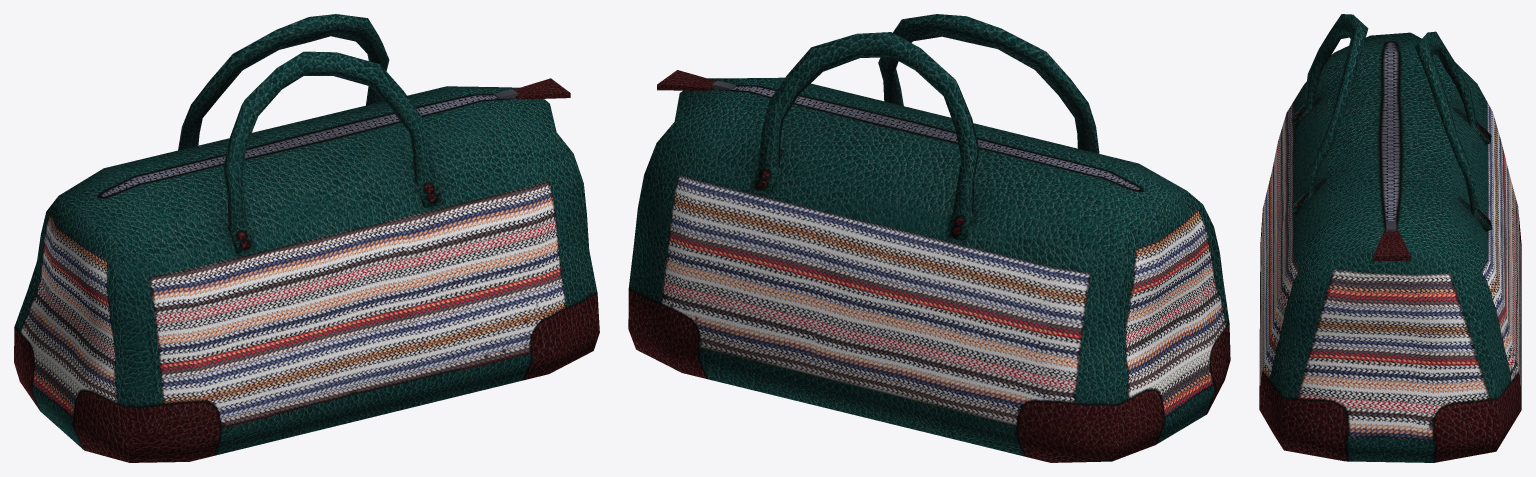
The model's file is handbag_1.fbx.
3 views of the same model, side by side, from view 1: azimuth 30°, elevation 25°; view 2: azimuth 150°, elevation 25°; view 3: azimuth 270°, elevation 25° (orthographic). The views are drawn at different scales.
Visible parts, largest first — view 1: handbag_1; view 2: handbag_1; view 3: handbag_1.
Boxes of the visible parts, x1=… form: handbag_1: x1=14, y1=14, x2=599, y2=462; handbag_1: x1=628, y1=14, x2=1230, y2=462; handbag_1: x1=1259, y1=14, x2=1521, y2=462.
Size of the model in its own units: 0.9183 by 0.5894 by 0.426.
